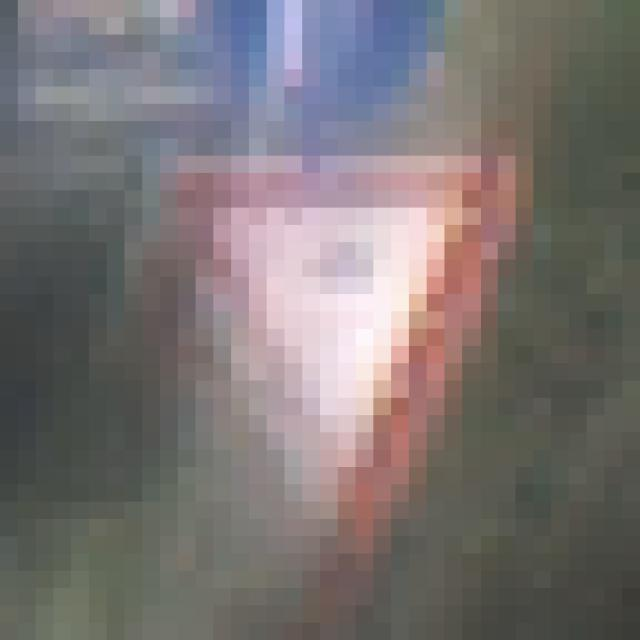Give Way: (90, 105, 534, 537)
